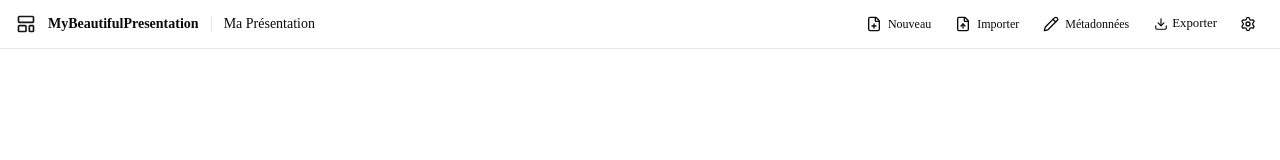
Test: Toolbar — Docker Compose & UI Polish › clicking Nouveau resets the presentation
Click the button "Nouveau" at (899, 24), box [856, 8, 941, 40]
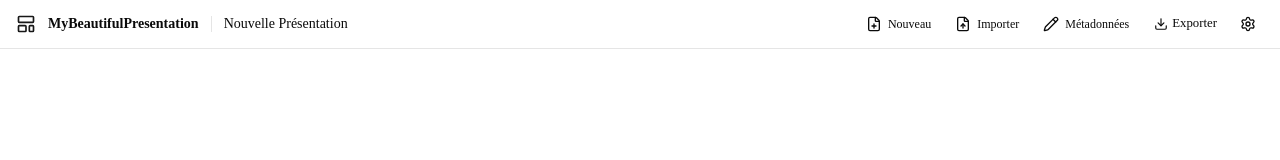
Now the button "Nouvelle Présentation" is shown, box [224, 14, 364, 34]
